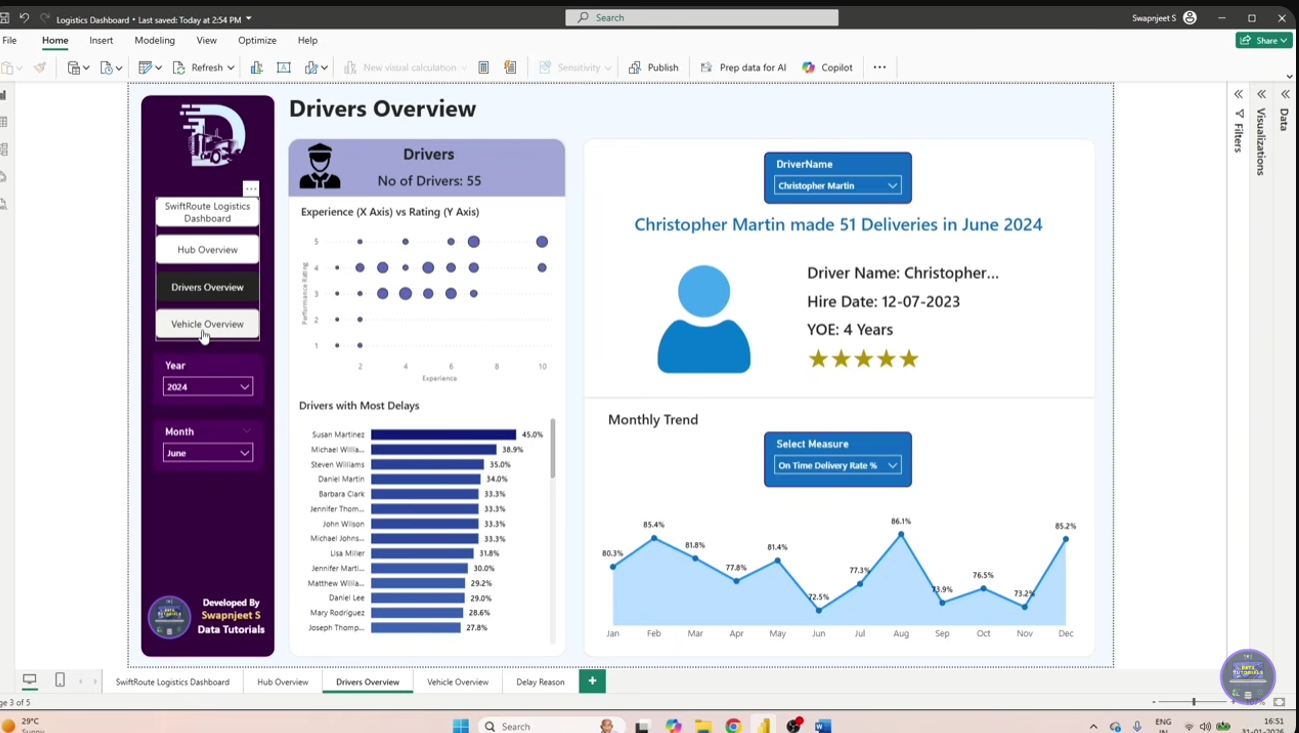

What the dashboard file says about the page in this screenshot:
{"tool":"powerbi","page":{"name":"Drivers Overview","canvas":[1920,1080],"ordinal":1},"visuals":[{"type":"textbox","box":[281.6,25,624.6,56.8],"z":0},{"type":"shape","box":[281.6,104.5,572.4,935.8],"z":1000},{"type":"shape","box":[280.6,104.9,572.6,96.4],"z":2000},{"type":"cardVisual","fields":{"Data":["Drivers.No of Drivers"]},"box":[402.5,141.7,323.2,59.5],"z":3000},{"type":"textbox","box":[402.5,113.4,323.2,39.7],"z":4000},{"type":"scatterChart","title":"Experience (X Axis) vs Rating (Y Axis)","fields":{"Size":["Sum(Drivers.Experience Years)"],"X":["Drivers.Experience Years"],"Y":["Drivers.Performance Rating"]},"box":[306.1,238.1,547.1,300.5],"z":5000},{"type":"barChart","title":"Drivers with Most Delays","fields":{"Category":["Orders.Driver Name"],"Y":["Orders.Delayed Delivery Rate"]},"box":[297.6,583.9,555.6,425.2],"z":6000},{"type":"cardVisual","fields":{"Data":["Orders.Year Month Title"]},"box":[1423,36.9,465.6,45.4],"z":7000},{"type":"shape","box":[908.5,104.5,978.9,935.8],"z":8000},{"type":"slicer","fields":{"Values":["Drivers.DriverName"]},"box":[1344.6,106.8,161.6,90.7],"z":9000},{"type":"cardVisual","fields":{"Data":["Drivers.Derivers Title"]},"box":[1069.8,218,715.5,52.2],"z":10000},{"type":"cardVisual","fields":{"Data":["Drivers.Driver Neme Title","Drivers.Hire Date title","Drivers.YOE","Drivers.Star Rating"]},"box":[1301.5,290.7,540.6,220.3],"z":11000},{"type":"image","box":[976.7,302.1,299.8,220.3],"z":12000},{"type":"areaChart","title":"Monthly Trend","fields":{"Category":["Date Table.Month"],"Y":["Orders.Total Orders"]},"box":[915.3,704.1,926.7,336.2],"z":13000},{"type":"slicer","fields":{"Values":["Selected Mesure.Selected Mesure"]},"box":[1315.1,540.6,227.1,138.5],"z":14000},{"type":"shape","box":[22.7,25.5,221.1,1026.1],"z":15000},{"type":"slicer","fields":{"Values":["Date Table.Year"]},"box":[54.5,613.3,161.6,90.7],"z":16000},{"type":"slicer","fields":{"Values":["Date Table.Month"]},"box":[52.2,704.1,161.6,73.7],"z":17000},{"type":"pageNavigator","box":[31.8,302.1,204.4,270.3],"z":18000},{"type":"image","box":[22.9,25.1,221.7,235.4],"z":19000},{"type":"image","box":[754,116.2,70.9,73.7],"z":20000}]}

Visuals, with their boxes on the page's 1920x1080 design canvas (x1, y1, x2, y2). These are canvas units, not pixel positions in the 1299x733 screenshot, which may show the page scaled, cropped or inside an application window:
textbox: x1=282 y1=25 x2=906 y2=82
shape: x1=282 y1=104 x2=854 y2=1040
shape: x1=281 y1=105 x2=853 y2=201
cardVisual - Drivers.No of Drivers: x1=402 y1=142 x2=726 y2=201
textbox: x1=402 y1=113 x2=726 y2=153
"Experience (X Axis) vs Rating (Y Axis)" scatterChart: x1=306 y1=238 x2=853 y2=539
"Drivers with Most Delays" barChart: x1=298 y1=584 x2=853 y2=1009
cardVisual - Orders.Year Month Title: x1=1423 y1=37 x2=1889 y2=82
shape: x1=908 y1=104 x2=1887 y2=1040
slicer - Drivers.DriverName: x1=1345 y1=107 x2=1506 y2=198
cardVisual - Drivers.Derivers Title: x1=1070 y1=218 x2=1785 y2=270
cardVisual - Drivers.Driver Neme Title x Drivers.Hire Date title: x1=1302 y1=291 x2=1842 y2=511
image: x1=977 y1=302 x2=1276 y2=522
"Monthly Trend" areaChart: x1=915 y1=704 x2=1842 y2=1040
slicer - Selected Mesure.Selected Mesure: x1=1315 y1=541 x2=1542 y2=679
shape: x1=23 y1=26 x2=244 y2=1052
slicer - Date Table.Year: x1=54 y1=613 x2=216 y2=704
slicer - Date Table.Month: x1=52 y1=704 x2=214 y2=778
pageNavigator: x1=32 y1=302 x2=236 y2=572
image: x1=23 y1=25 x2=245 y2=260
image: x1=754 y1=116 x2=825 y2=190
